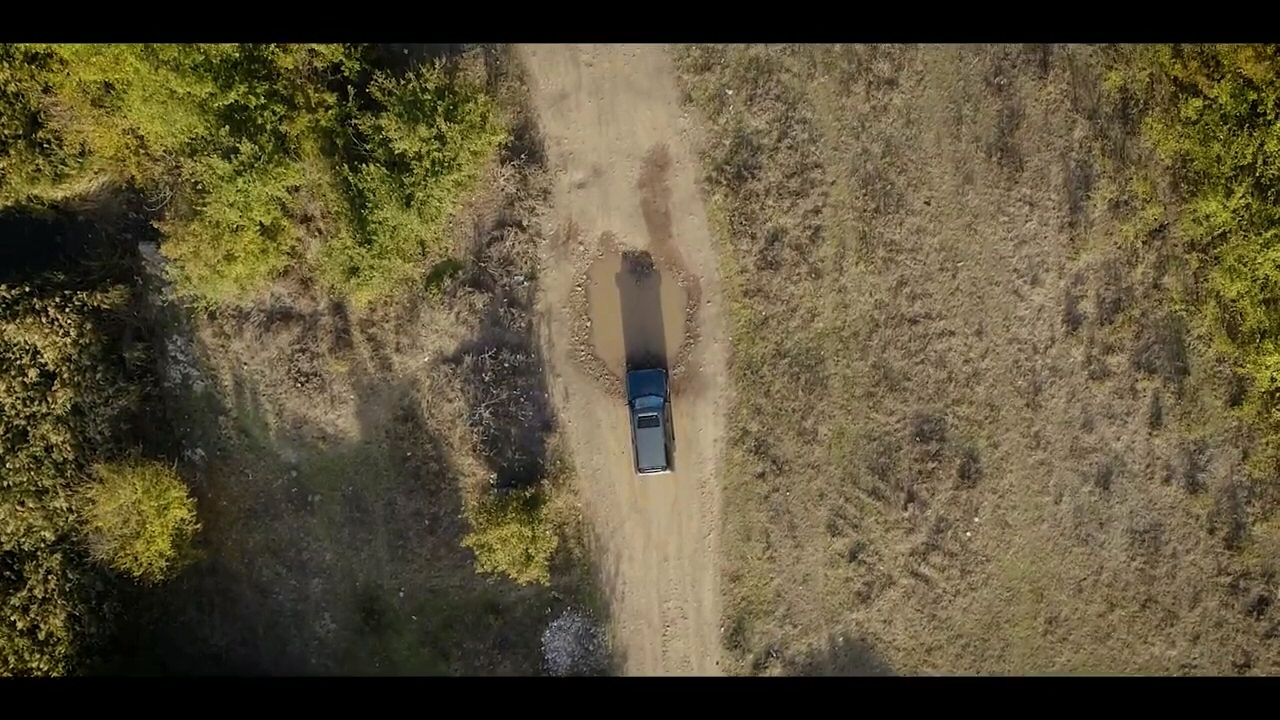araba: (627, 365, 678, 478)
